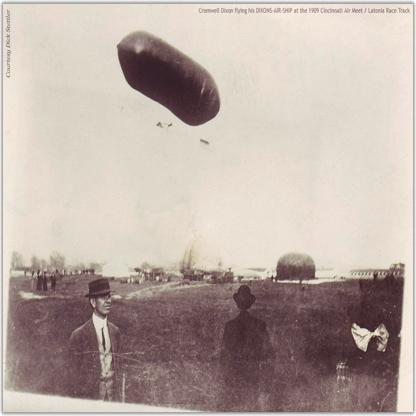Airship: (116, 31, 223, 136)
